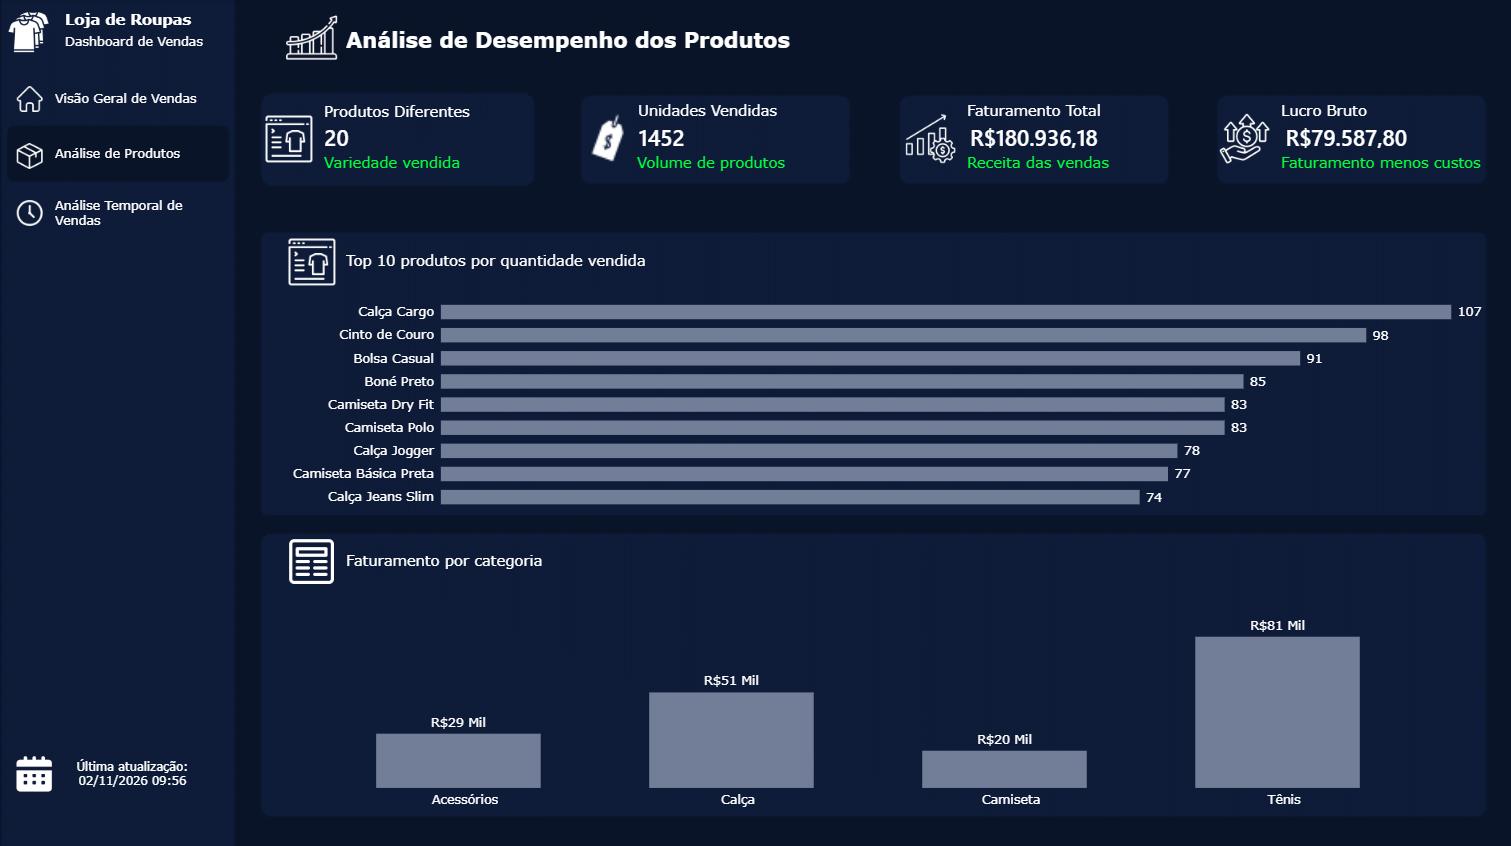

What the dashboard file says about the page in this screenshot:
{"tool":"powerbi","page":{"name":"Análise de Produtos","canvas":[1920,1080],"ordinal":1},"visuals":[{"type":"clusteredBarChart","fields":{"Category":["F_Vendas.Produto"],"Y":["_medidas.02 Quantidade Vendida"]},"box":[334.1,373.5,1553.8,274.3],"z":0},{"type":"clusteredColumnChart","fields":{"Category":["F_Vendas.Categoria"],"Y":["_medidas.01 Faturamento Total"]},"box":[334.1,751.4,1553.8,284.5],"z":1000},{"type":"card","fields":{"Values":["_medidas.08 Produtos Diferentes Vendidos"]},"box":[334.1,147.4,186.7,61.3],"z":2000},{"type":"card","fields":{"Values":["_medidas.01 Faturamento Total"]},"box":[1181.8,147.4,264.1,61.3],"z":3000},{"type":"card","fields":{"Values":["_medidas.02 Quantidade Vendida"]},"box":[739.7,147.4,202.8,61.3],"z":4000},{"type":"card","fields":{"Values":["_medidas.06 Lucro Bruto"]},"box":[1615.1,147.4,191.1,61.3],"z":5000},{"type":"textbox","box":[439.1,16,588,65.7],"z":6000},{"type":"textbox","box":[411.8,130.8,242.2,33.9],"z":7000},{"type":"textbox","box":[810,130,256,32],"z":8000},{"type":"textbox","box":[1228.4,129.8,256.8,32.1],"z":9000},{"type":"textbox","box":[1628.2,129.8,182.4,32.1],"z":10000},{"type":"textbox","box":[411.4,195.5,264.1,33.6],"z":11000},{"type":"textbox","box":[809.7,195.5,217.4,33.6],"z":12000},{"type":"textbox","box":[1228.4,195.5,242.2,33.6],"z":13000},{"type":"textbox","box":[1628.2,195.5,259.7,33.6],"z":14000},{"type":"textbox","box":[439.1,300.5,402.7,65.7],"z":15000},{"type":"textbox","box":[439.1,682.8,402.7,65.7],"z":16000},{"type":"textbox","box":[70,116,224,33],"z":17000},{"type":"textbox","box":[70,186,224,33],"z":18000},{"type":"textbox","box":[70,251,215,43],"z":19000},{"type":"textbox","box":[82,14,213,43],"z":20000},{"type":"textbox","box":[82,43,213,38],"z":21000},{"type":"image","box":[15.6,111,45,33],"z":22000},{"type":"image","box":[15.6,183,45,33],"z":23000},{"type":"image","box":[15.6,255,45,33],"z":24000},{"type":"image","box":[334.1,144.4,65.7,65.7],"z":25000},{"type":"image","box":[363.3,300.5,65.7,65.7],"z":26000},{"type":"image","box":[739.7,144.4,65.7,65],"z":27000},{"type":"image","box":[1149.7,144.4,65,65],"z":28000},{"type":"image","box":[1549.4,144.4,65,65],"z":29000},{"type":"image","box":[363.3,682.8,65,65],"z":30000},{"type":"image","box":[4.4,16,65.7,51.1],"z":31000},{"type":"image","box":[363.3,16,65,65],"z":32000},{"type":"card","fields":{"Values":["_medidas.11 Última Atualização"]},"box":[61.3,955.6,214.5,58.4],"z":33000},{"type":"image","box":[16,955.6,54,58.4],"z":34000},{"type":"actionButton","box":[68.6,249,169,45.7],"z":35000},{"type":"actionButton","box":[69.9,110.5,184.2,33],"z":36000}]}

Visuals, with their boxes on the page's 1920x1080 design canvas (x1, y1, x2, y2). These are canvas units, not pixel positions in the 1511x846 screenshot, which may show the page scaled, cropped or inside an application window:
clusteredBarChart - F_Vendas.Produto x _medidas.02 Quantidade Vendida: <box>334,374,1888,648</box>
clusteredColumnChart - F_Vendas.Categoria x _medidas.01 Faturamento Total: <box>334,751,1888,1036</box>
card - _medidas.08 Produtos Diferentes Vendidos: <box>334,147,521,209</box>
card - _medidas.01 Faturamento Total: <box>1182,147,1446,209</box>
card - _medidas.02 Quantidade Vendida: <box>740,147,942,209</box>
card - _medidas.06 Lucro Bruto: <box>1615,147,1806,209</box>
textbox: <box>439,16,1027,82</box>
textbox: <box>412,131,654,165</box>
textbox: <box>810,130,1066,162</box>
textbox: <box>1228,130,1485,162</box>
textbox: <box>1628,130,1811,162</box>
textbox: <box>411,196,676,229</box>
textbox: <box>810,196,1027,229</box>
textbox: <box>1228,196,1471,229</box>
textbox: <box>1628,196,1888,229</box>
textbox: <box>439,300,842,366</box>
textbox: <box>439,683,842,748</box>
textbox: <box>70,116,294,149</box>
textbox: <box>70,186,294,219</box>
textbox: <box>70,251,285,294</box>
textbox: <box>82,14,295,57</box>
textbox: <box>82,43,295,81</box>
image: <box>16,111,61,144</box>
image: <box>16,183,61,216</box>
image: <box>16,255,61,288</box>
image: <box>334,144,400,210</box>
image: <box>363,300,429,366</box>
image: <box>740,144,805,209</box>
image: <box>1150,144,1215,209</box>
image: <box>1549,144,1614,209</box>
image: <box>363,683,428,748</box>
image: <box>4,16,70,67</box>
image: <box>363,16,428,81</box>
card - _medidas.11 Última Atualização: <box>61,956,276,1014</box>
image: <box>16,956,70,1014</box>
actionButton: <box>69,249,238,295</box>
actionButton: <box>70,110,254,144</box>
